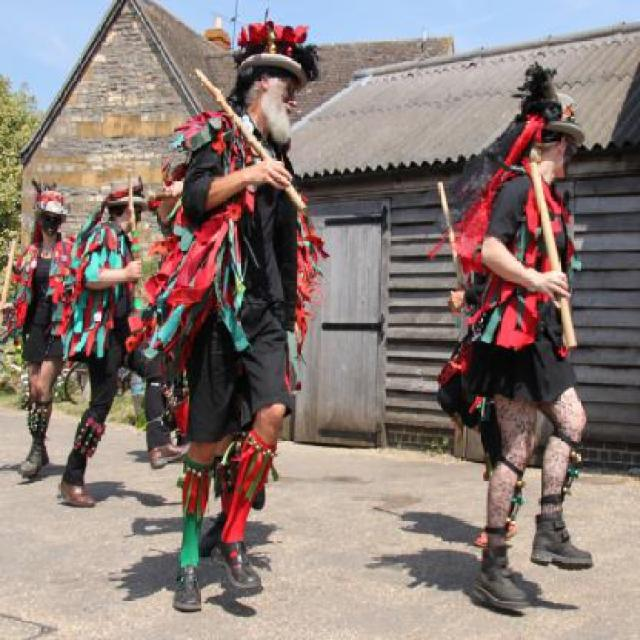Person: (0, 6, 588, 612)
